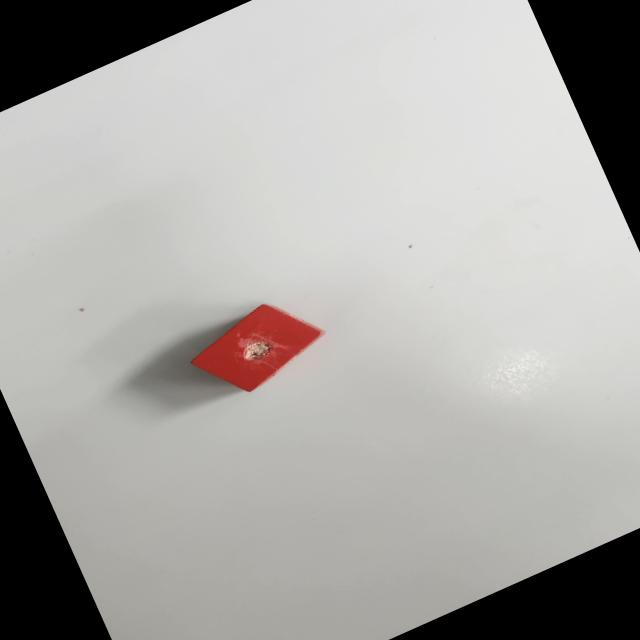broken: (180, 285, 337, 411)
